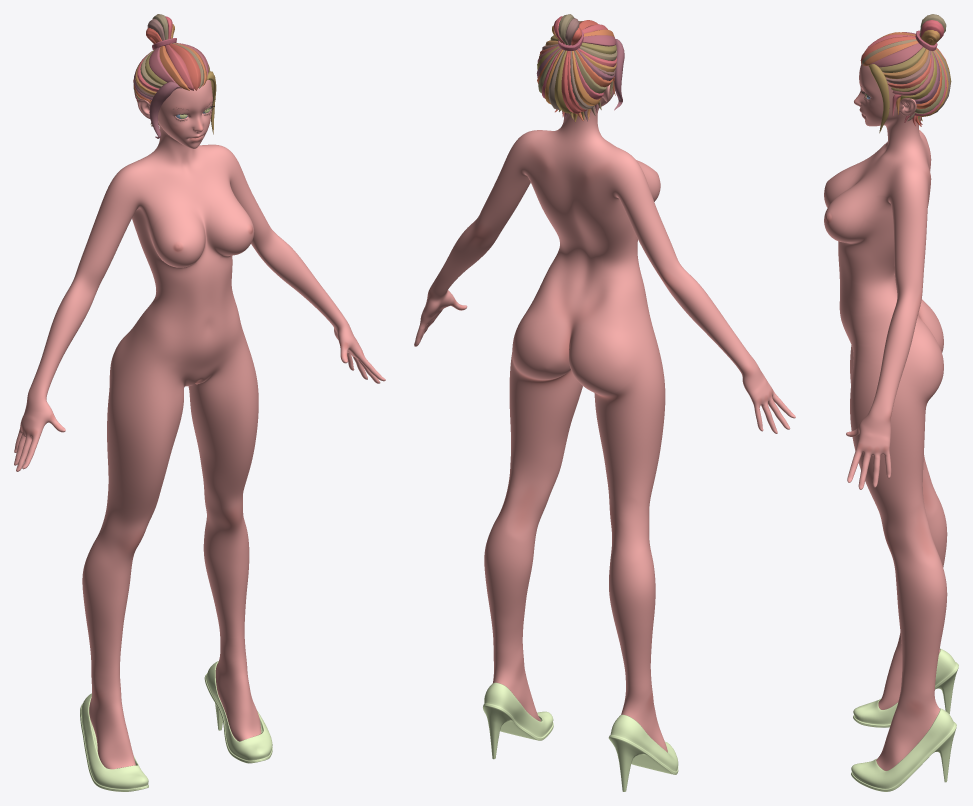
The model's file is free_download_female_anime.glb.
The picture shows the model from 3 angles, left to right: view 1: azimuth 30°, elevation 25°; view 2: azimuth 150°, elevation 25°; view 3: azimuth 270°, elevation 25°; orthographic projection. The views are drawn at different scales.
Visible parts, largest first — view 1: Female_Anime, Delete, sports_girl1_3; view 2: Female_Anime, Delete, sports_girl1_3; view 3: Female_Anime, Delete, sports_girl1_3.
Boxes of the visible parts, <box> form: Female_Anime: <box>14,79,385,769</box>; Delete: <box>133,14,216,138</box>; sports_girl1_3: <box>80,661,272,791</box>; Female_Anime: <box>414,84,795,752</box>; Delete: <box>536,14,624,121</box>; sports_girl1_3: <box>483,682,678,791</box>; Female_Anime: <box>824,64,947,770</box>; Delete: <box>860,14,951,133</box>; sports_girl1_3: <box>851,648,958,791</box>.
Bounding box in the file's own units: 0.8766 × 1.69 × 0.2815.
